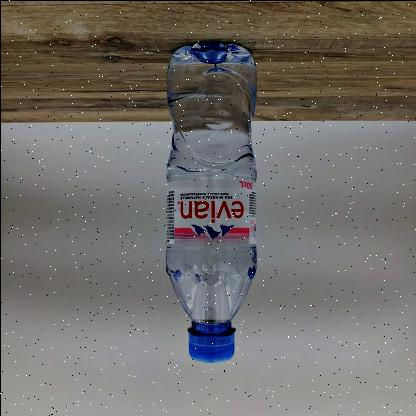Plastic Bottle: (156, 35, 262, 367)
